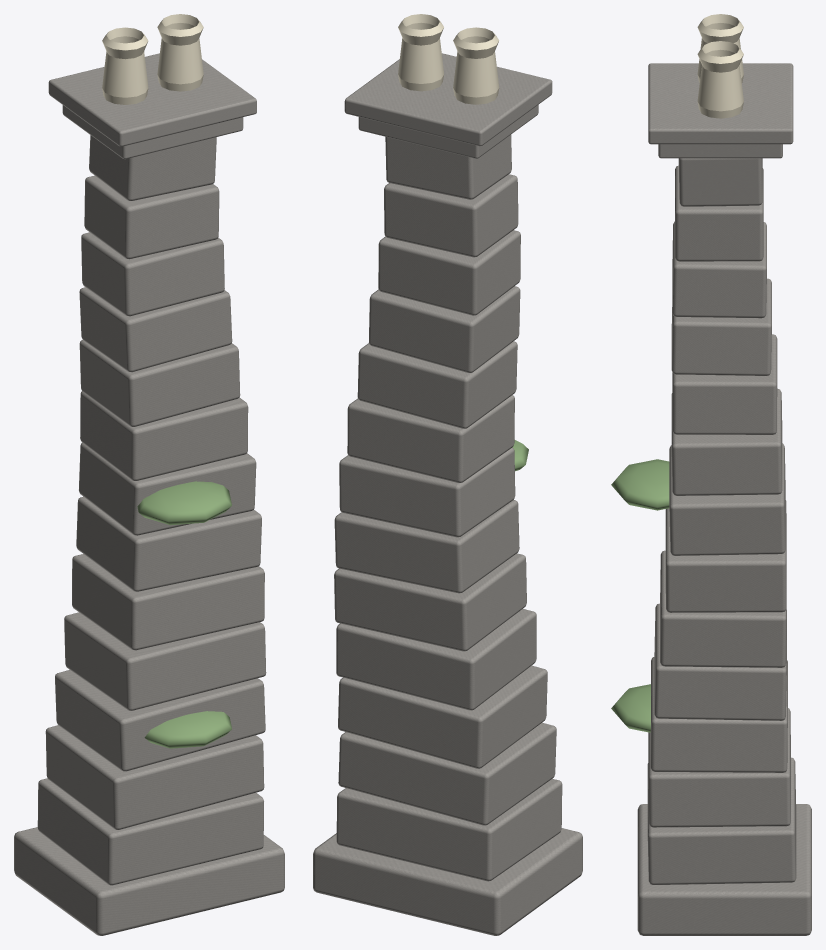
File: witch-cottage-and-apothecary-crooked-chimney-stack-e93946da__32444.glb
3 renders of one model, left to right at view 1: azimuth 30°, elevation 25°; view 2: azimuth 150°, elevation 25°; view 3: azimuth 270°, elevation 25°, orthographic.
Visible parts, largest first — view 1: crooked-chimney-stack; view 2: crooked-chimney-stack; view 3: crooked-chimney-stack.
Part boxes in pixels (x1,y1,x2,y2): crooked-chimney-stack: [14, 14, 284, 935]; crooked-chimney-stack: [313, 14, 582, 935]; crooked-chimney-stack: [611, 14, 811, 935].
Size of the model in its own units: 1.5 by 6.52 by 1.38.
3 materials, 1 textured.
